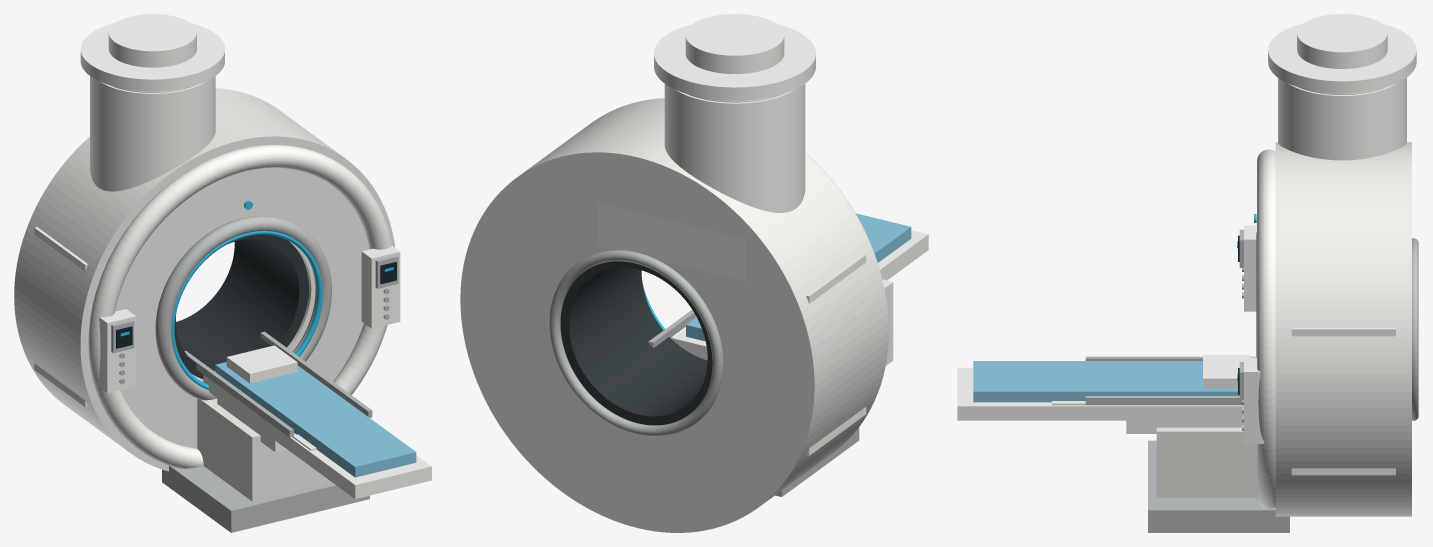
File: mri no patient.glb
3 views of the same model, side by side, from view 1: azimuth 30°, elevation 25°; view 2: azimuth 150°, elevation 25°; view 3: azimuth 270°, elevation 25° (orthographic). The views are drawn at different scales.
Visible parts, largest first — view 1: MRI MAIN GANTRY, FRONT OUTER FACIA, MRI INNER BORE, LARGE VERTICAL MRI HOUSING, PATIENT MATTRESS, TABLE PEDESTAL, FRONT BORE RIM, TABLE BASE, LARGE CEILING FLANGE, PATIENT TABLE, CEILING CONNECTION, RIGHT CONTROL HOUSING (+7 smaller); view 2: MRI MAIN GANTRY, MRI INNER BORE, LARGE VERTICAL MRI HOUSING, GANTRY OVERHEAD TRANSITION, LARGE CEILING FLANGE, REAR BORE RIM, CEILING CONNECTION, PATIENT MATTRESS, PATIENT TABLE, LEFT GANTRY SIDE PANEL, TABLE BASE, LEFT CONTROL HOUSING; view 3: MRI MAIN GANTRY, PATIENT MATTRESS, LARGE VERTICAL MRI HOUSING, TABLE PEDESTAL, FRONT OUTER FACIA, PATIENT TABLE, LARGE CEILING FLANGE, TABLE BASE, CEILING CONNECTION, RIGHT GANTRY SIDE PANEL, RIGHT TABLE RAIL, RIGHT CONTROL HOUSING (+5 smaller).
Part boxes in pixels (x1,y1,x2,y2): MRI MAIN GANTRY: [14, 88, 395, 471]; FRONT OUTER FACIA: [88, 144, 392, 468]; MRI INNER BORE: [174, 234, 308, 378]; LARGE VERTICAL MRI HOUSING: [90, 76, 215, 191]; PATIENT MATTRESS: [215, 362, 416, 477]; TABLE PEDESTAL: [197, 398, 331, 501]; FRONT BORE RIM: [155, 216, 331, 400]; TABLE BASE: [162, 466, 369, 532]; LARGE CEILING FLANGE: [80, 23, 224, 91]; PATIENT TABLE: [203, 371, 431, 498]; CEILING CONNECTION: [108, 14, 196, 67]; RIGHT CONTROL HOUSING: [361, 246, 400, 328]; MRI MAIN GANTRY: [460, 98, 888, 532]; MRI INNER BORE: [560, 261, 712, 425]; LARGE VERTICAL MRI HOUSING: [664, 84, 805, 212]; GANTRY OVERHEAD TRANSITION: [597, 203, 745, 281]; LARGE CEILING FLANGE: [654, 24, 815, 100]; REAR BORE RIM: [549, 250, 723, 436]; CEILING CONNECTION: [685, 14, 784, 73]; PATIENT MATTRESS: [686, 213, 911, 341]; PATIENT TABLE: [672, 230, 928, 360]; LEFT GANTRY SIDE PANEL: [806, 254, 866, 455]; TABLE BASE: [775, 427, 859, 496]; LEFT CONTROL HOUSING: [882, 279, 893, 365]; MRI MAIN GANTRY: [1275, 142, 1411, 516]; PATIENT MATTRESS: [973, 361, 1239, 402]; LARGE VERTICAL MRI HOUSING: [1278, 78, 1406, 160]; TABLE PEDESTAL: [1156, 427, 1256, 497]; FRONT OUTER FACIA: [1257, 149, 1275, 509]; PATIENT TABLE: [957, 368, 1243, 420]; LARGE CEILING FLANGE: [1268, 23, 1416, 93]; TABLE BASE: [1148, 440, 1289, 532]; CEILING CONNECTION: [1297, 14, 1387, 68]; RIGHT GANTRY SIDE PANEL: [1291, 328, 1395, 475]; RIGHT TABLE RAIL: [1085, 396, 1243, 405]; RIGHT CONTROL HOUSING: [1244, 357, 1264, 443].
Size of the model in its own units: 3.3 by 4.27 by 4.07.
